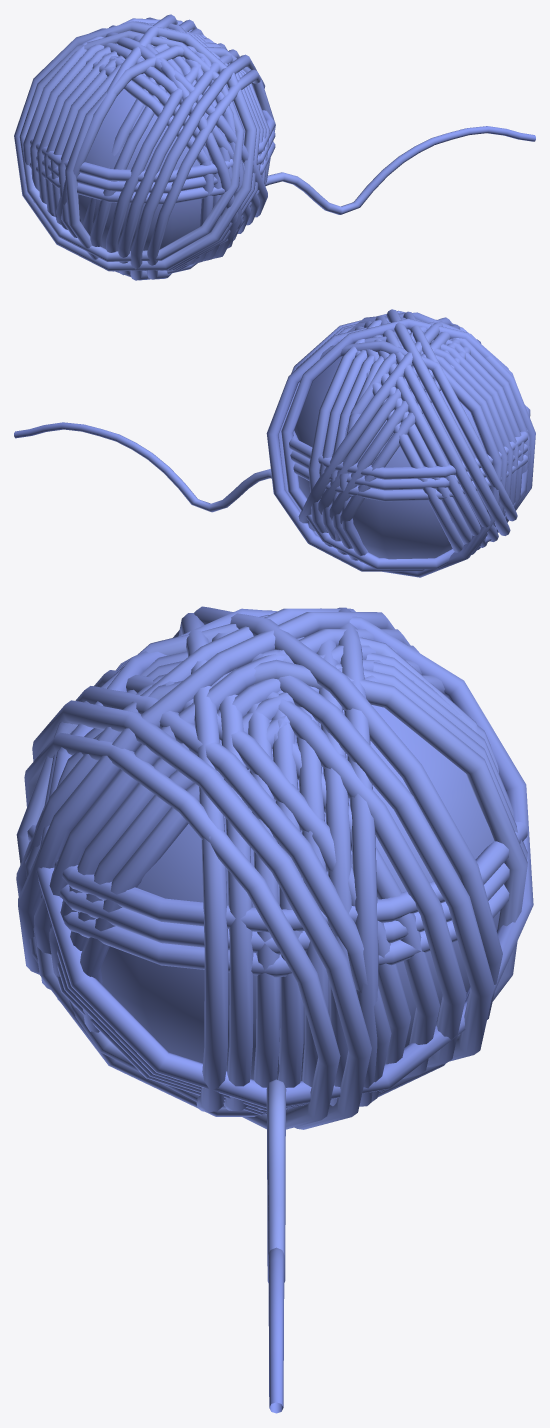
File: PR_Yarn.fbx
3 views of the same model, one above another, from view 1: azimuth 30°, elevation 25°; view 2: azimuth 150°, elevation 25°; view 3: azimuth 270°, elevation 25° (orthographic). The views are drawn at different scales.
Visible parts, largest first — view 1: PR_Yarn; view 2: PR_Yarn; view 3: PR_Yarn.
Part boxes in pixels (x1,y1,x2,y2): PR_Yarn: [14, 14, 535, 280]; PR_Yarn: [14, 309, 535, 577]; PR_Yarn: [16, 606, 533, 1413].
Size of the model in its own units: 63.56 by 29.63 by 28.58.
Materials: 1 (1 with a texture image).
